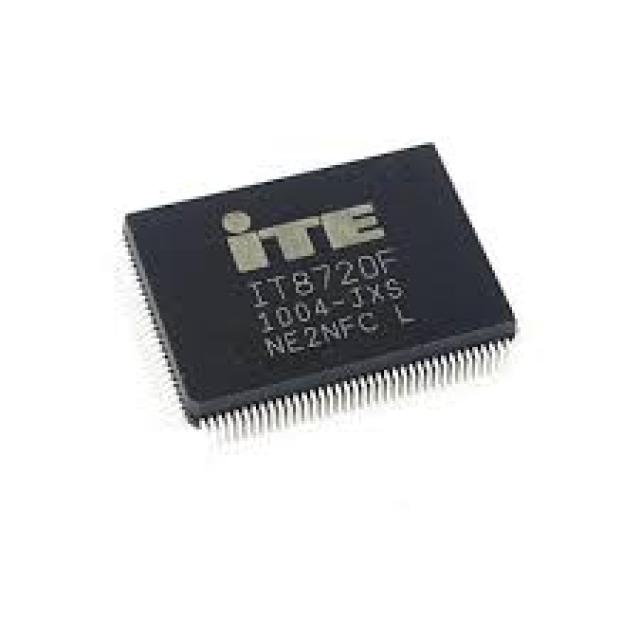IC: (123, 143, 519, 431)
